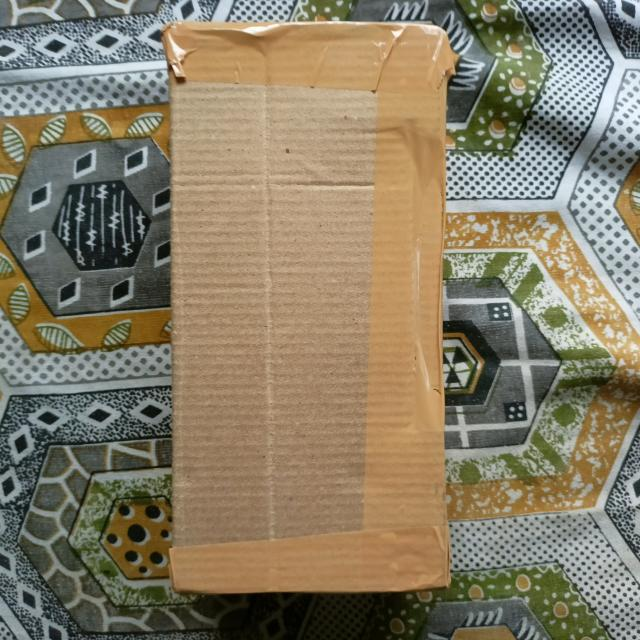box: (162, 21, 459, 600)
